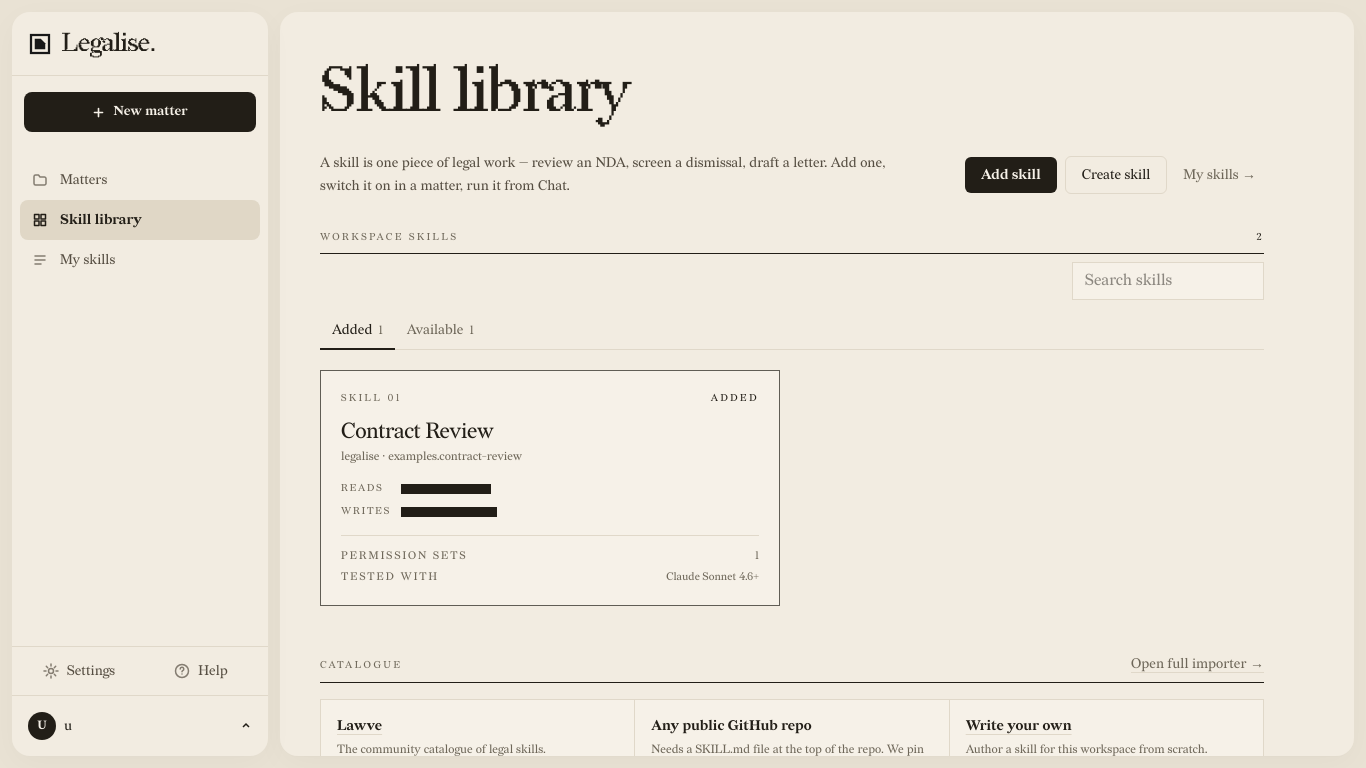
ModulesCatalog — integrations home › filters reference modules by search and workspace state
Expected: the heading "Contract Review" is shown, [341,418,494,444]
Expected: the text "Pre-Motion" is not shown
Click the tab with test id "skills-tab-available": (440, 330) [395,312,486,350]
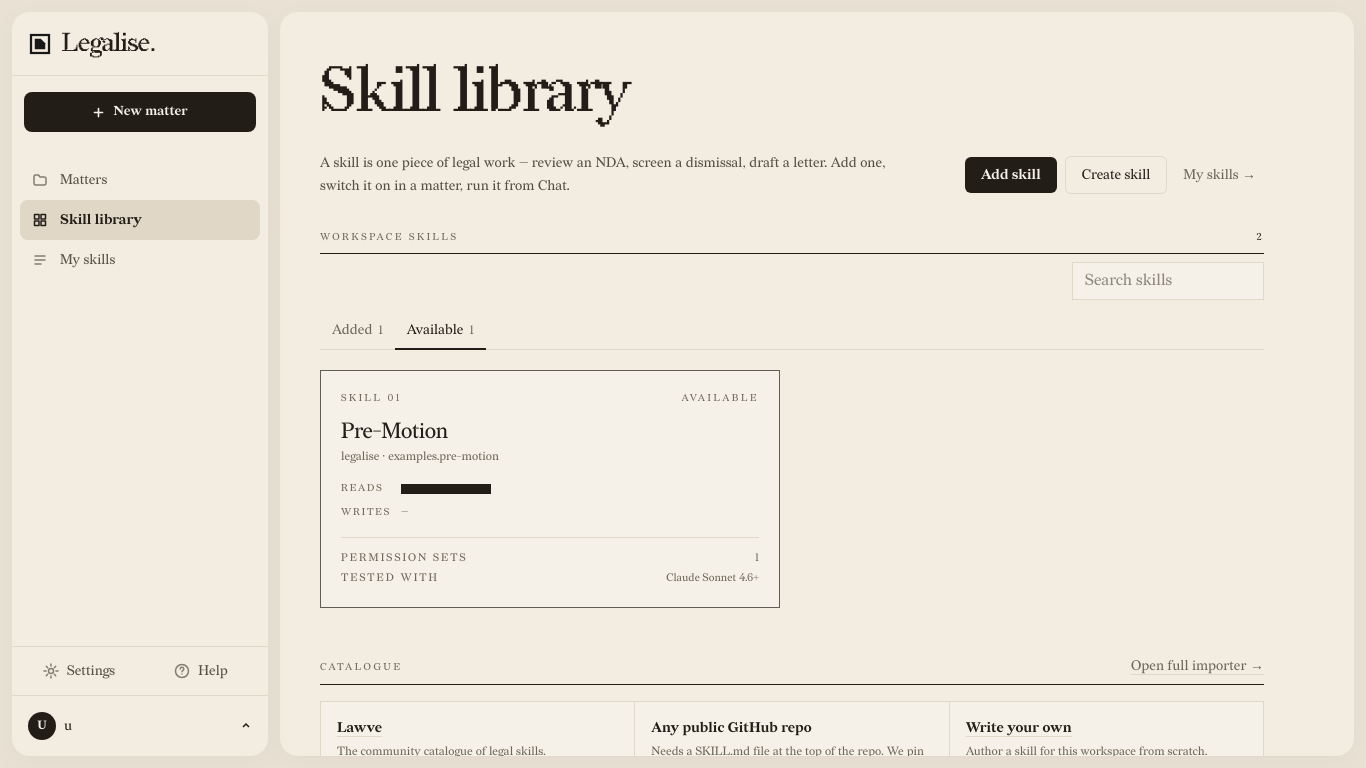
Now the heading "Pre-Motion" is shown, box [341,418,448,444]
Now the link "Contract Review" is gone
In the field labelled "Search skills": (1168, 280) [1072,262,1264,300], type "zzzzz"
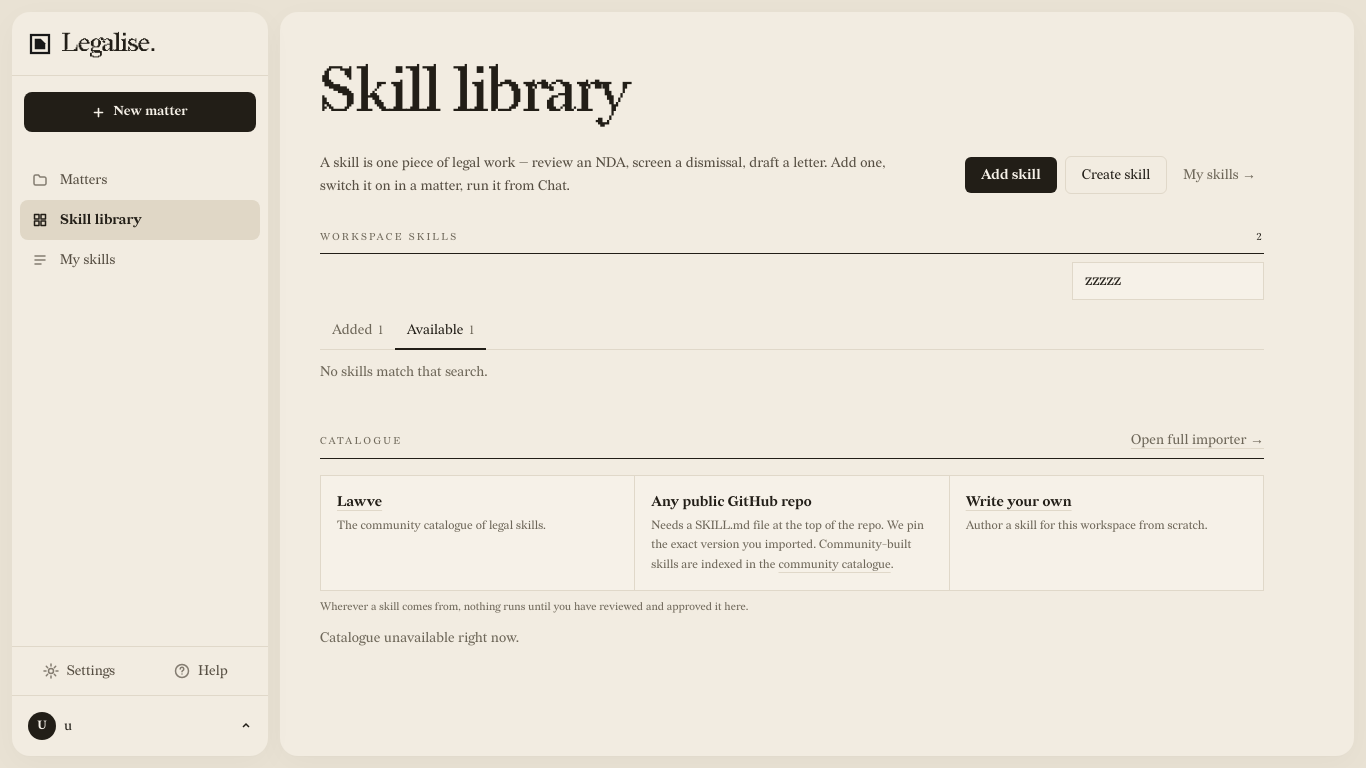
Now the text "No skills match that search." is shown, box [320,362,488,380]
